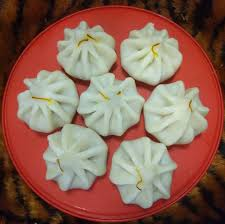modak: (72, 64, 145, 137), (46, 126, 113, 200), (113, 136, 178, 208), (142, 80, 210, 146), (120, 25, 188, 85), (54, 24, 120, 76), (21, 72, 75, 125)
